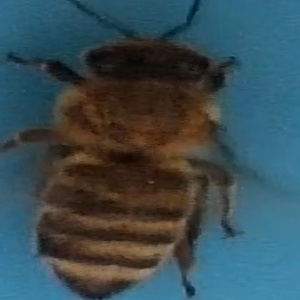bee: (5, 2, 265, 300)
